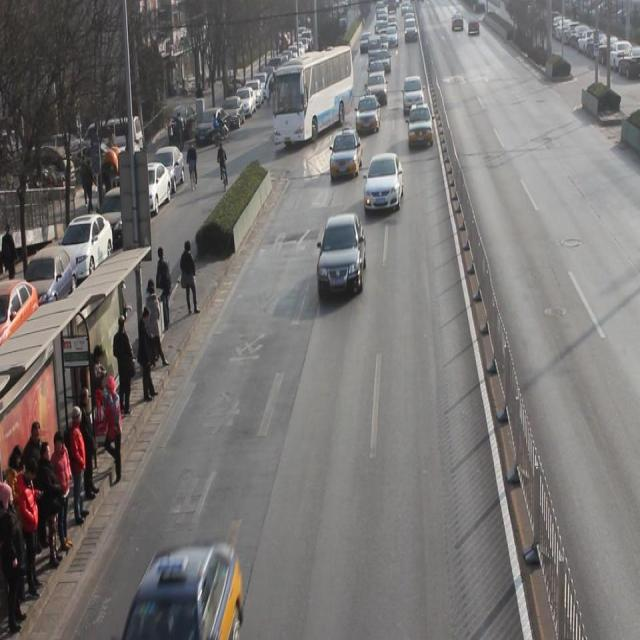car: (120, 538, 243, 640), (318, 215, 366, 298), (364, 154, 404, 213), (330, 132, 363, 182), (407, 104, 434, 148), (356, 96, 382, 134), (403, 77, 424, 117), (367, 72, 388, 106)
van: (272, 48, 354, 148)
